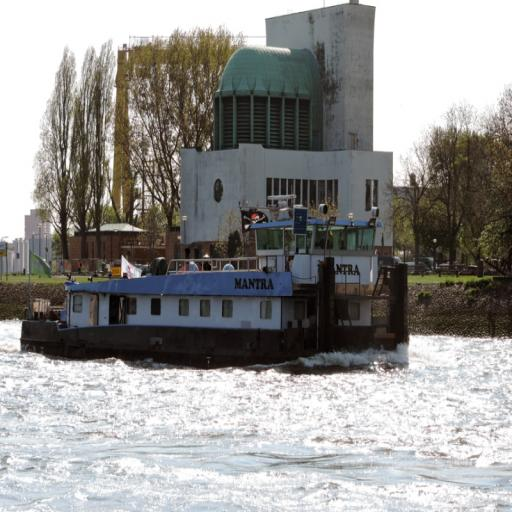tugboat: (19, 191, 412, 376)
